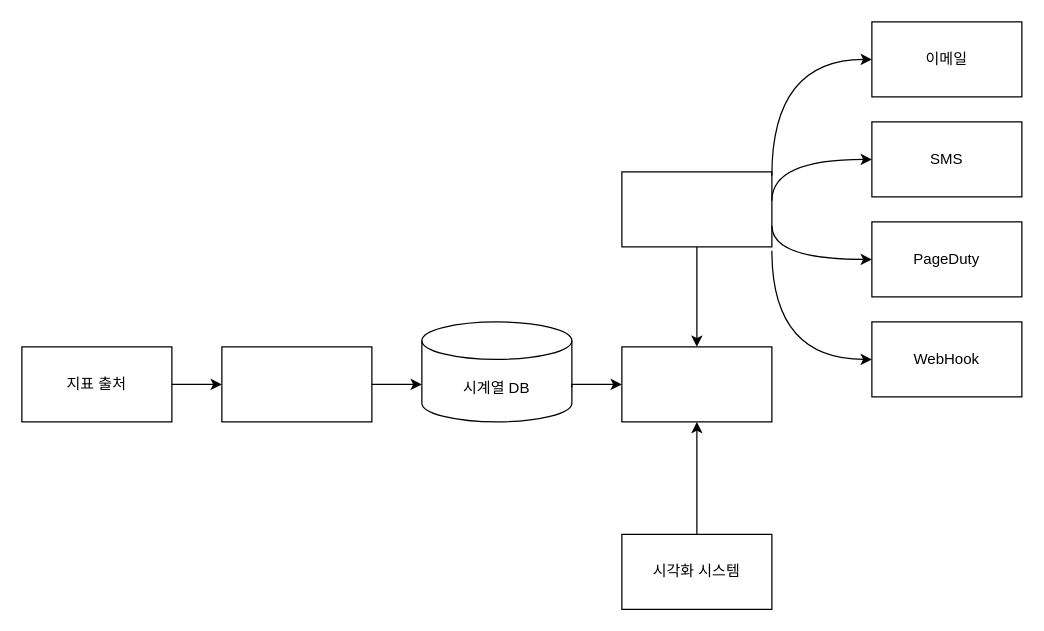
This 1044x631 diagram has some shape labels left out. The centre of each missing label's shape, as x and y in pixels:
"경보 시스템" belongs at (696,209).
"지표 수집기" belongs at (296,384).
"질의 시스템" belongs at (696,384).
